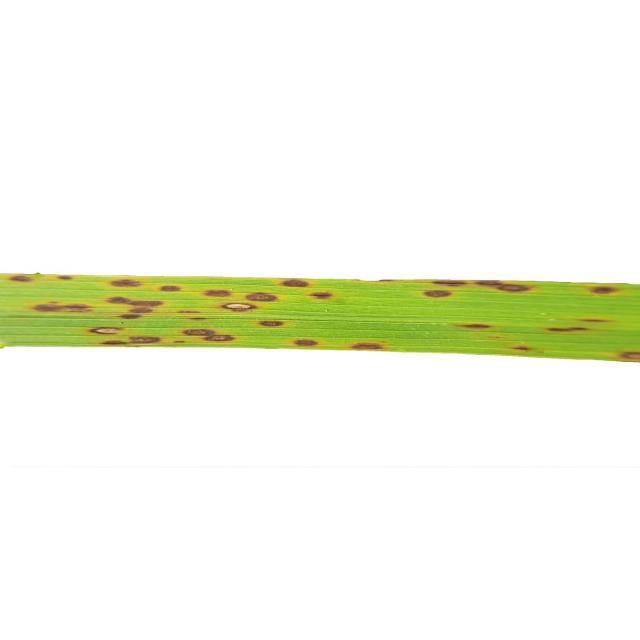Brown spot: (103, 296, 168, 322), (29, 298, 92, 318), (472, 279, 538, 297), (178, 327, 239, 346), (345, 332, 390, 351), (536, 324, 594, 336), (247, 286, 287, 302), (104, 278, 148, 292), (423, 286, 456, 304), (441, 319, 493, 330), (583, 284, 623, 298), (610, 343, 640, 360), (254, 315, 290, 329), (7, 272, 38, 288), (91, 322, 122, 338), (223, 300, 258, 313), (289, 333, 319, 348), (180, 306, 208, 322), (578, 312, 615, 324), (202, 285, 233, 299), (128, 333, 164, 345), (502, 342, 543, 352), (280, 275, 308, 289), (305, 290, 336, 302), (54, 272, 76, 288), (157, 282, 186, 294), (427, 280, 472, 286), (99, 339, 125, 348), (484, 334, 512, 339)
